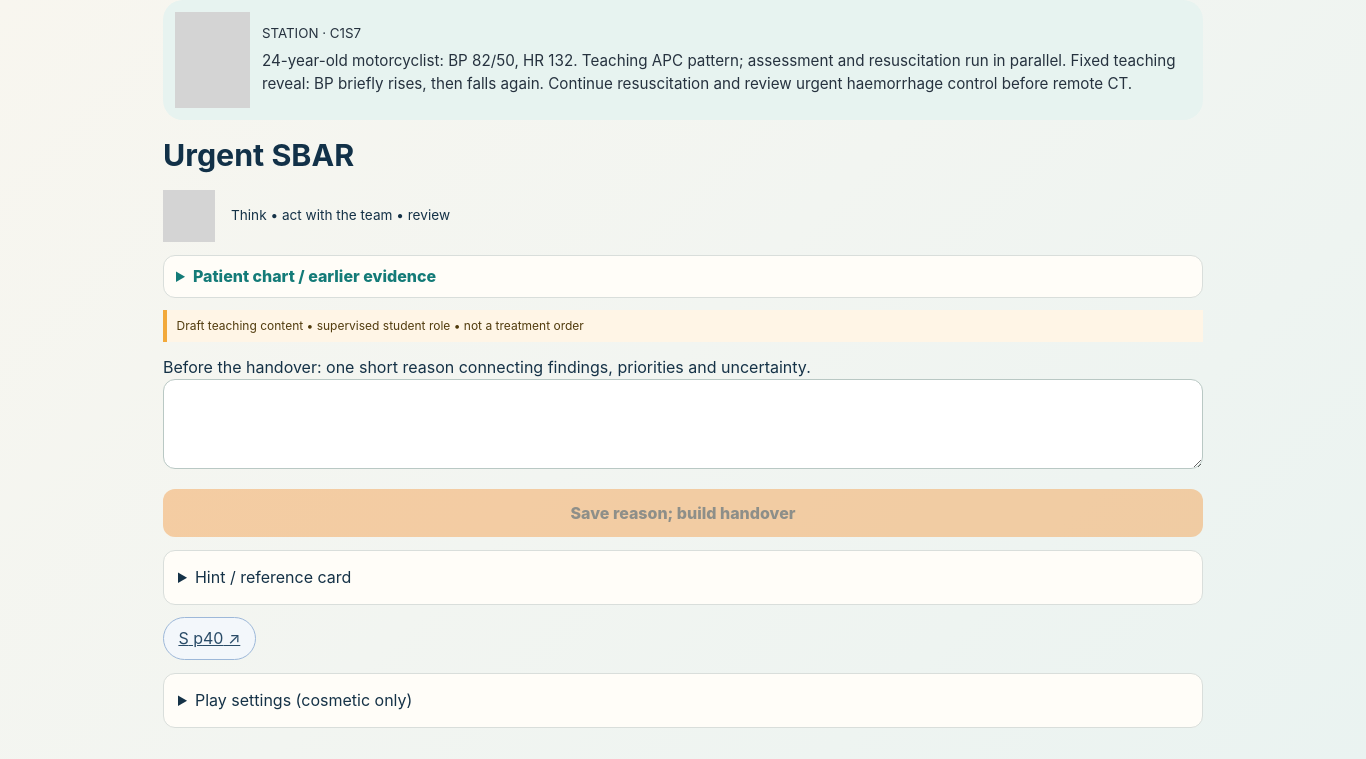
station learning transitions › requires explanation from memory before SBAR choices appear
In the text box: (683, 424) [163,379,1203,469], type "Recurrent hypotension; urgent review; bleeding site uncertain."
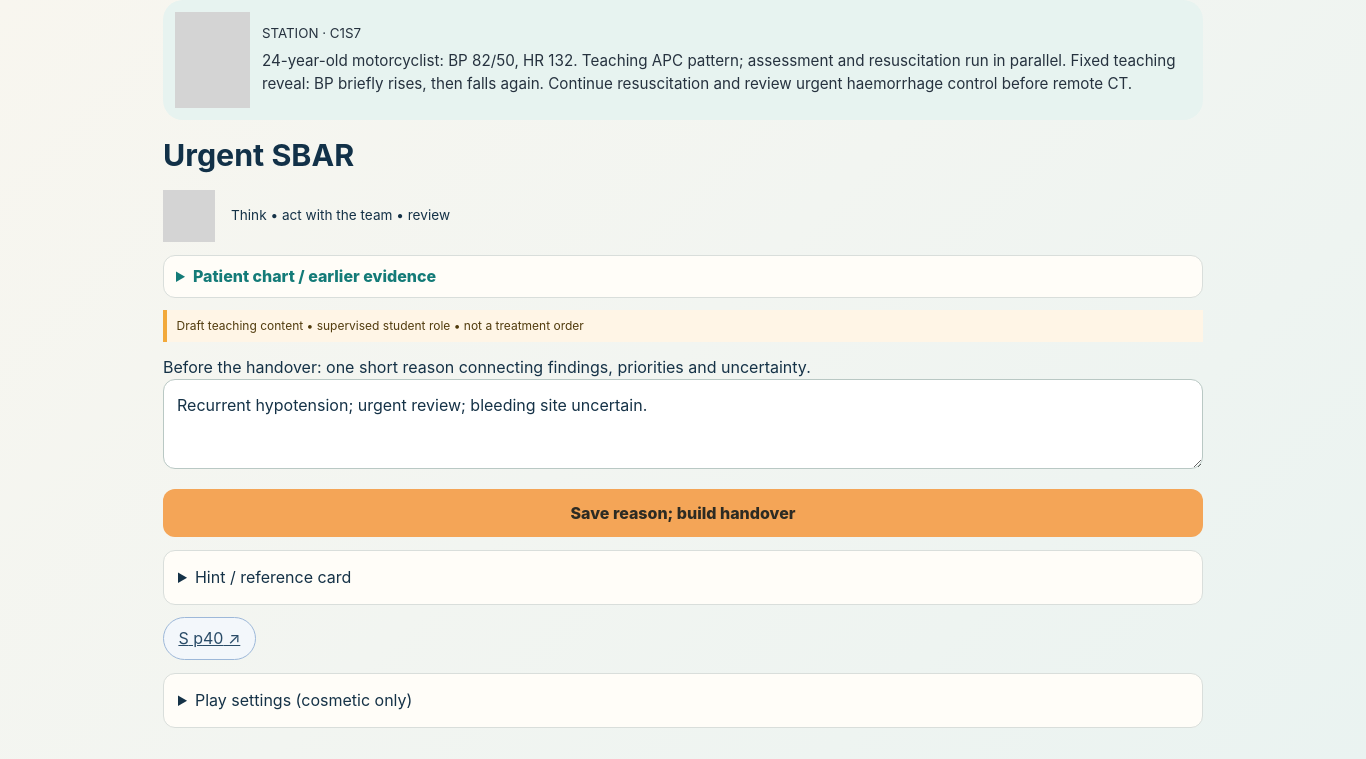
Click the button "Save reason; build handover": click(683, 513) [163,489,1203,537]
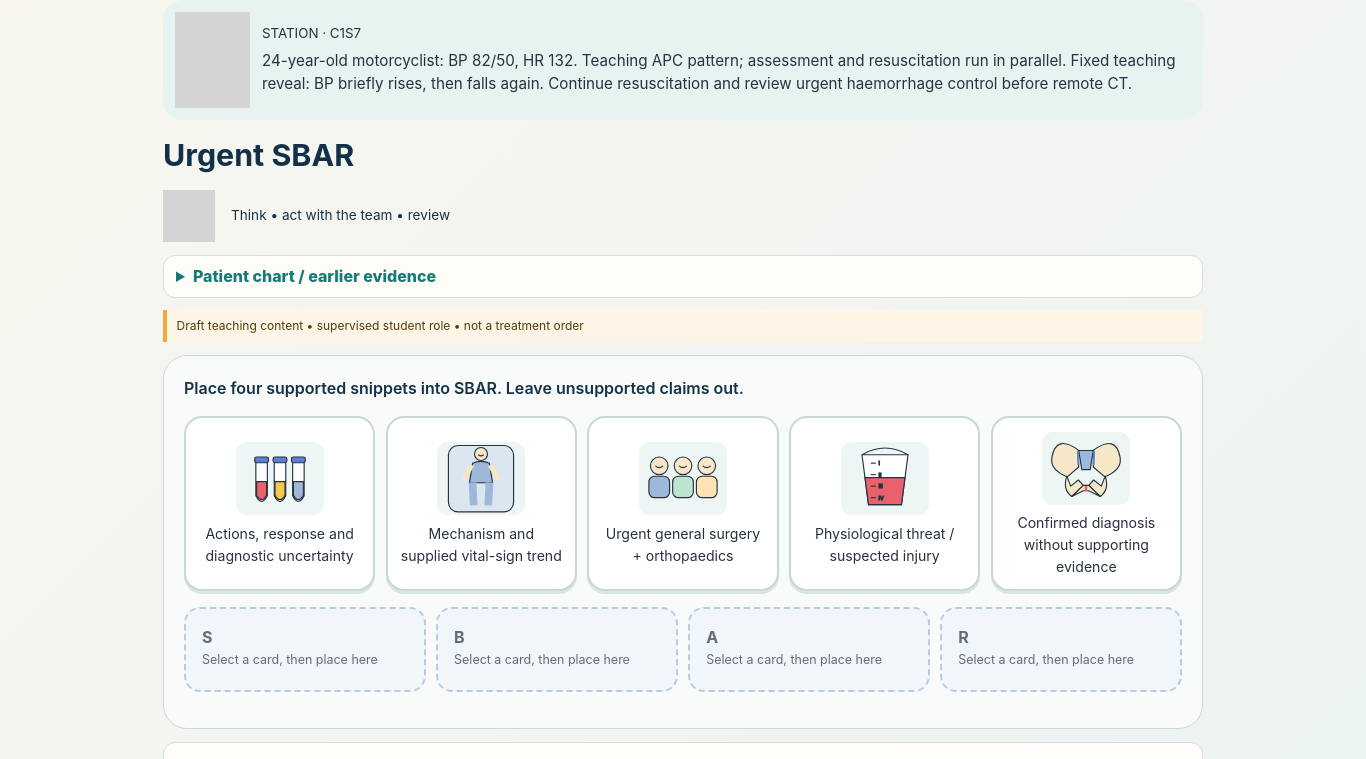
Expected: the element named "Place four supported snippets into SBAR. Leave unsupported c" is shown, [163,354,1203,729]
